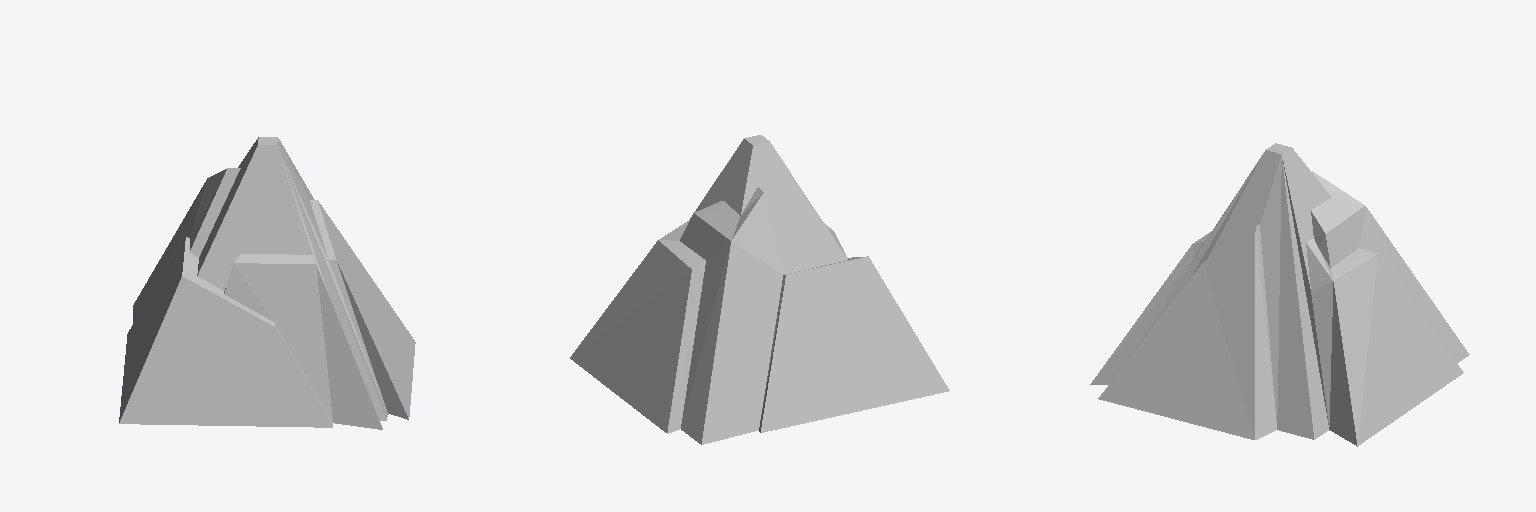
Rendered from BGmountain13_2.obj.
3 renders of one model, left to right at view 1: azimuth 30°, elevation 25°; view 2: azimuth 150°, elevation 25°; view 3: azimuth 270°, elevation 25°, orthographic.
Visible parts, largest first — view 1: polySurface10; view 2: polySurface10; view 3: polySurface10.
Boxes of the visible parts, <box> form: polySurface10: <box>119,137,415,429</box>; polySurface10: <box>570,135,949,444</box>; polySurface10: <box>1090,143,1469,446</box>.
Size of the model in its own units: 8705 by 5875 by 8963.